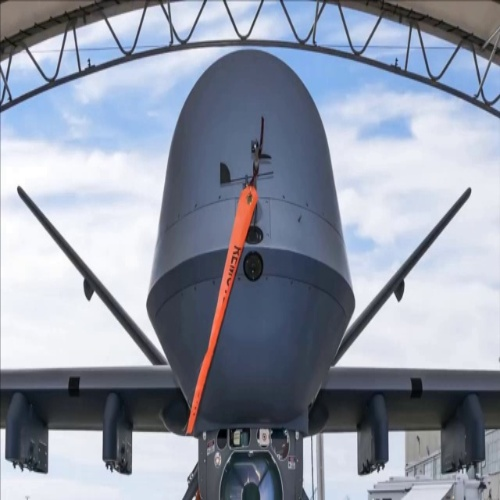uav830: (1, 46, 499, 500)
